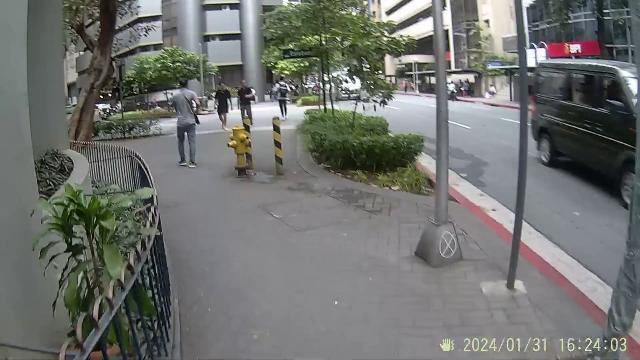utility_post: (414, 0, 466, 266)
